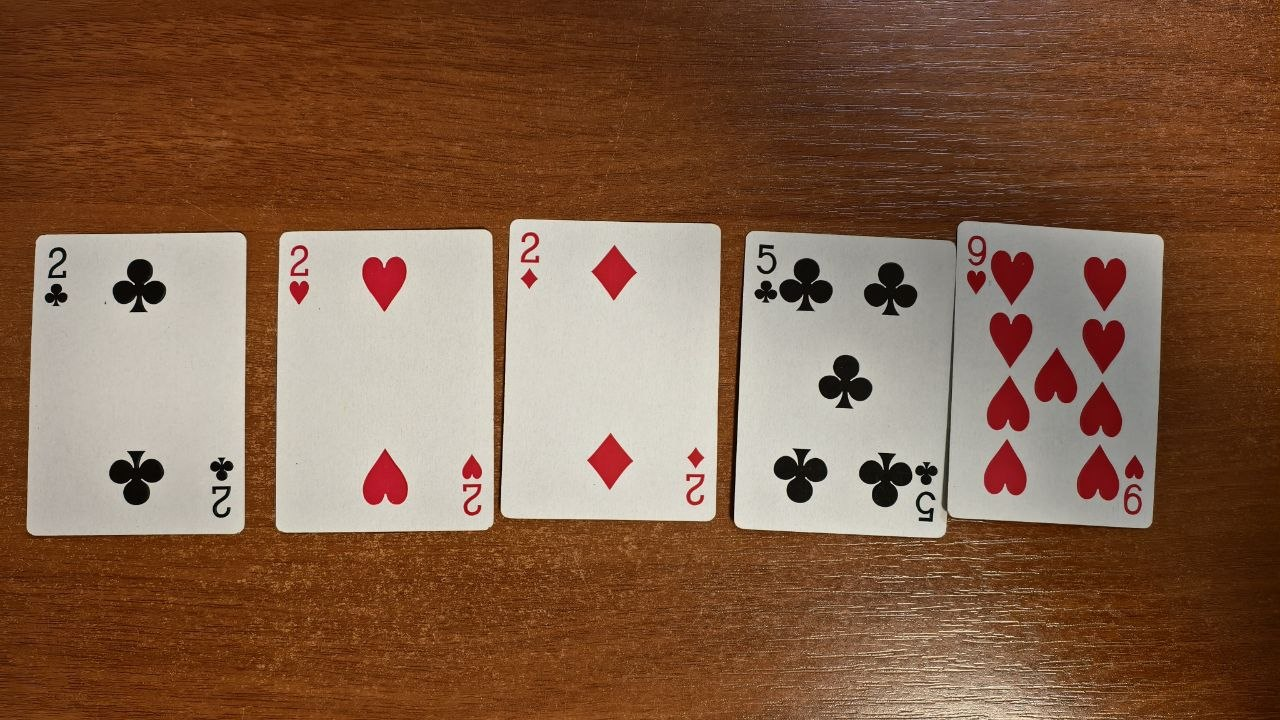2C: (26, 231, 247, 536)
2D: (500, 217, 722, 522)
2H: (276, 227, 497, 533)
5C: (732, 229, 955, 538)
9H: (948, 220, 1163, 528)
